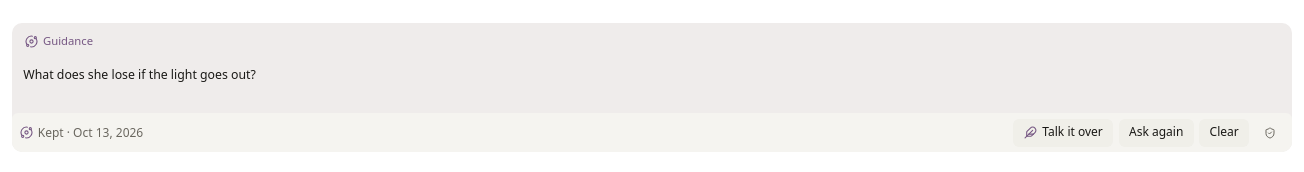
Test case: kept answers outside a sheet (A7) › shows a Plan step's kept guidance after a remount, without asking again
Expected: the text "What does she lose if the light goes out?" is shown, x1=23 y1=66 x2=256 y2=82
Expected: the button "Ask again" is shown, x1=1118 y1=118 x2=1194 y2=146
Click the button "Clear".
click(1224, 132)  # box x1=1199 y1=118 x2=1249 y2=146
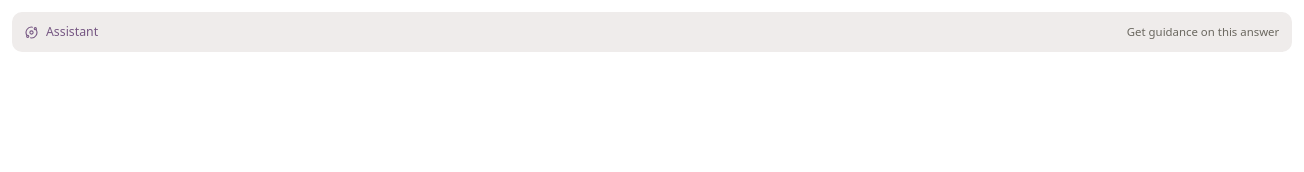
Now the text "Get guidance on this answer" is shown, box x1=1127 y1=24 x2=1279 y2=39
